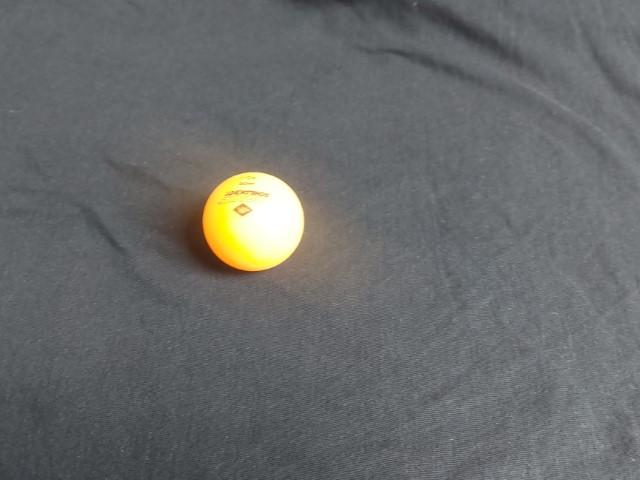oball: (195, 165, 311, 280)
